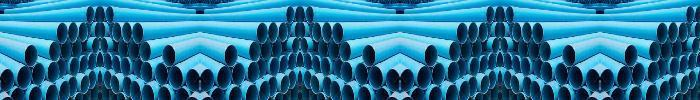pipe: (368, 66, 384, 90), (216, 66, 232, 90), (416, 66, 432, 90), (168, 66, 184, 90), (568, 66, 584, 90), (16, 66, 32, 90), (616, 66, 632, 90), (361, 44, 377, 67), (223, 44, 239, 67), (423, 44, 439, 67), (161, 44, 177, 67), (561, 44, 577, 67), (23, 44, 39, 67), (623, 44, 639, 67), (385, 69, 400, 93), (200, 69, 215, 93), (400, 69, 415, 93), (185, 69, 200, 93), (585, 69, 600, 93), (0, 69, 15, 93), (600, 69, 615, 93), (354, 62, 368, 87), (232, 62, 246, 87), (432, 62, 446, 87), (154, 62, 168, 87), (554, 62, 568, 87), (32, 62, 46, 87), (632, 62, 646, 87), (340, 62, 353, 84), (247, 62, 260, 84), (447, 62, 460, 84), (140, 62, 153, 84), (540, 62, 553, 84), (47, 62, 60, 84), (647, 62, 660, 84), (332, 22, 344, 44), (256, 22, 268, 44), (456, 22, 468, 44), (132, 22, 144, 44), (532, 22, 544, 44), (56, 22, 68, 44), (656, 22, 668, 44), (339, 42, 352, 61), (248, 42, 261, 61), (448, 42, 461, 61), (139, 42, 152, 61), (539, 42, 552, 61), (48, 42, 61, 61), (648, 42, 661, 61), (322, 76, 333, 97), (333, 58, 344, 79), (267, 76, 278, 97), (467, 76, 478, 97), (122, 76, 133, 97), (522, 76, 533, 97), (67, 76, 78, 97), (667, 76, 678, 97), (256, 58, 267, 79), (456, 58, 467, 79), (133, 58, 144, 79), (533, 58, 544, 79), (56, 58, 67, 79), (656, 58, 667, 79), (322, 22, 332, 44), (320, 57, 331, 77), (328, 40, 339, 60), (268, 22, 278, 44), (468, 22, 478, 44), (122, 22, 132, 44), (522, 22, 532, 44), (68, 22, 78, 44), (668, 22, 678, 44), (269, 57, 280, 77), (469, 57, 480, 77), (120, 57, 131, 77), (520, 57, 531, 77), (69, 57, 80, 77), (669, 57, 680, 77), (261, 40, 272, 60), (461, 40, 472, 60), (128, 40, 139, 60), (528, 40, 539, 60), (61, 40, 72, 60), (661, 40, 672, 60), (318, 40, 329, 59), (271, 40, 282, 59), (471, 40, 482, 59), (118, 40, 129, 59), (518, 40, 529, 59), (71, 40, 82, 59), (671, 40, 682, 59), (310, 75, 320, 95), (312, 22, 322, 42), (280, 75, 290, 95), (480, 75, 490, 95), (110, 75, 120, 95), (510, 75, 520, 95), (80, 75, 90, 95), (680, 75, 690, 95), (278, 22, 288, 42), (478, 22, 488, 42), (112, 22, 122, 42), (512, 22, 522, 42), (78, 22, 88, 42), (678, 22, 688, 42), (305, 5, 315, 24), (285, 5, 295, 24), (485, 5, 495, 24), (105, 5, 115, 24), (505, 5, 515, 24), (85, 5, 95, 24), (685, 5, 695, 24), (312, 55, 320, 73), (304, 71, 312, 89), (280, 55, 288, 73), (480, 55, 488, 73), (112, 55, 120, 73), (512, 55, 520, 73), (80, 55, 88, 73), (680, 55, 688, 73), (288, 71, 296, 89), (488, 71, 496, 89), (104, 71, 112, 89), (504, 71, 512, 89), (88, 71, 96, 89), (688, 71, 696, 89), (300, 38, 308, 55), (292, 38, 300, 55), (492, 38, 500, 55), (100, 38, 108, 55), (500, 38, 508, 55), (92, 38, 100, 55), (692, 38, 700, 55), (304, 54, 312, 70), (288, 54, 296, 70), (488, 54, 496, 70), (104, 54, 112, 70), (504, 54, 512, 70), (88, 54, 96, 70), (688, 54, 696, 70)
